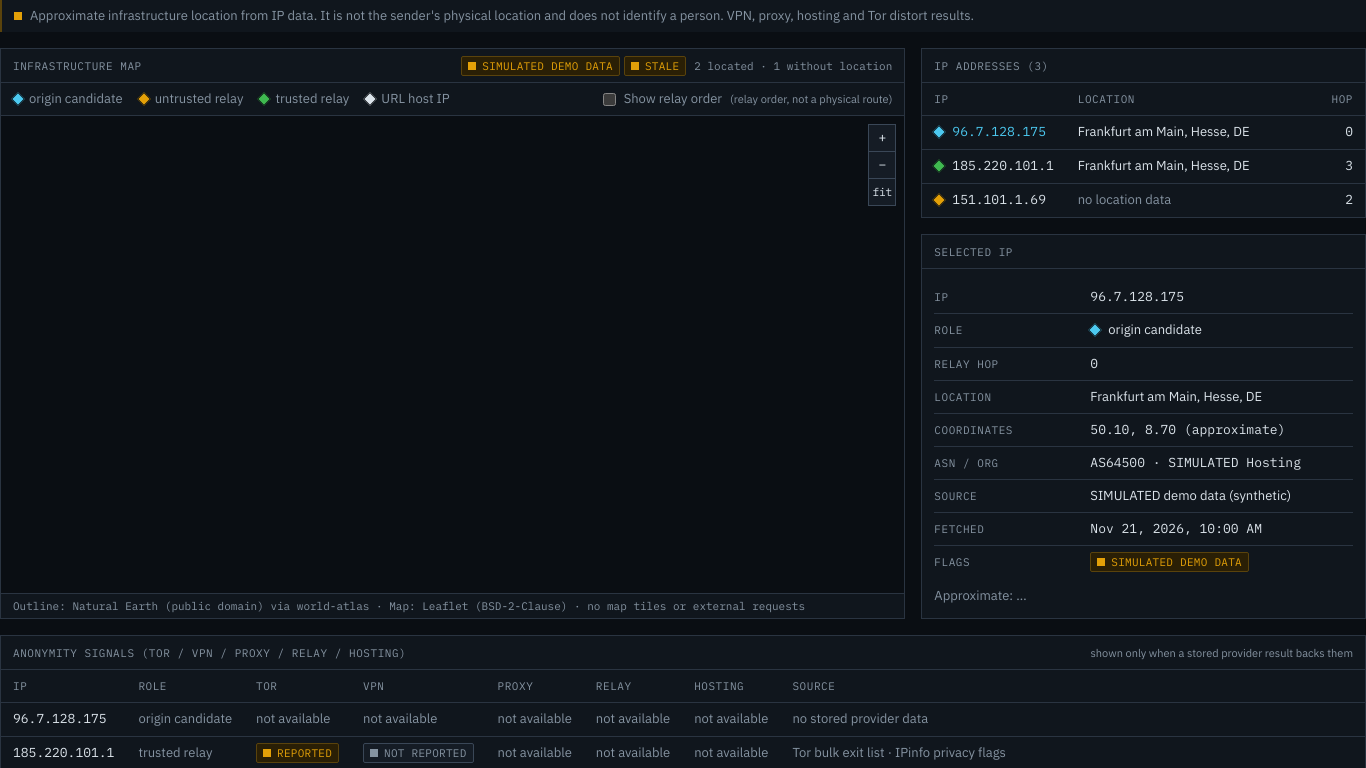
Test: GeoPanel › map + synchronized table + selection + flags + anonymity "not available" vs reported
Expected: the element with test id "geo-disclaimer" shows "Approximate infrastructure location from IP data. It is not the sender's physical location and does not identify a person. VPN, proxy, hosting and Tor distort r", [30, 7, 974, 24]
Expected: the number of rows with test id "geo-row" is 3, [922, 115, 1365, 149]; [922, 149, 1365, 183]; [922, 183, 1365, 217]
Click the button "185.220.101.1": (994, 166) [934, 156, 1054, 176]
(page scrolled)
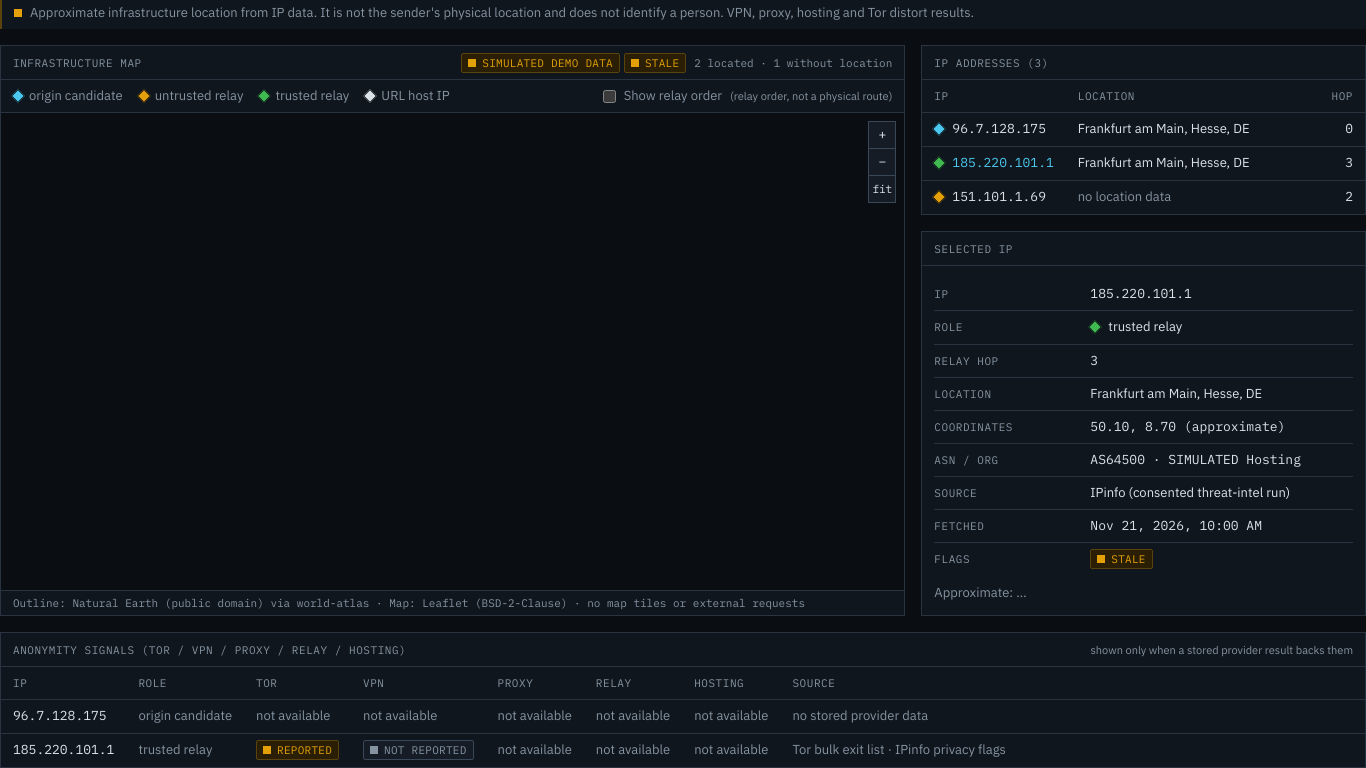
Expected: the row that starts with "origin candidate" shows "not available", [256, 707, 330, 724]
Expected: the element "Selected IP" shows "IPinfo (consented threat-intel run)", [1090, 484, 1290, 501]
Expected: the element "Selected IP" shows "trusted relay", [1108, 318, 1182, 335]
